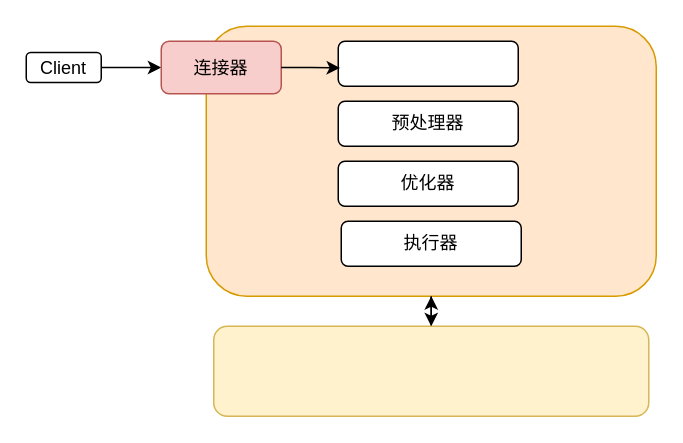
Image size: 683x443. Some labels were removed from this diagram. The shapes that lost their labels are listed below. From the top down, each one's centre as x and y in pixels, then its label:
At (427,63): "解析器".
At (430,370): "存储引擎层".
